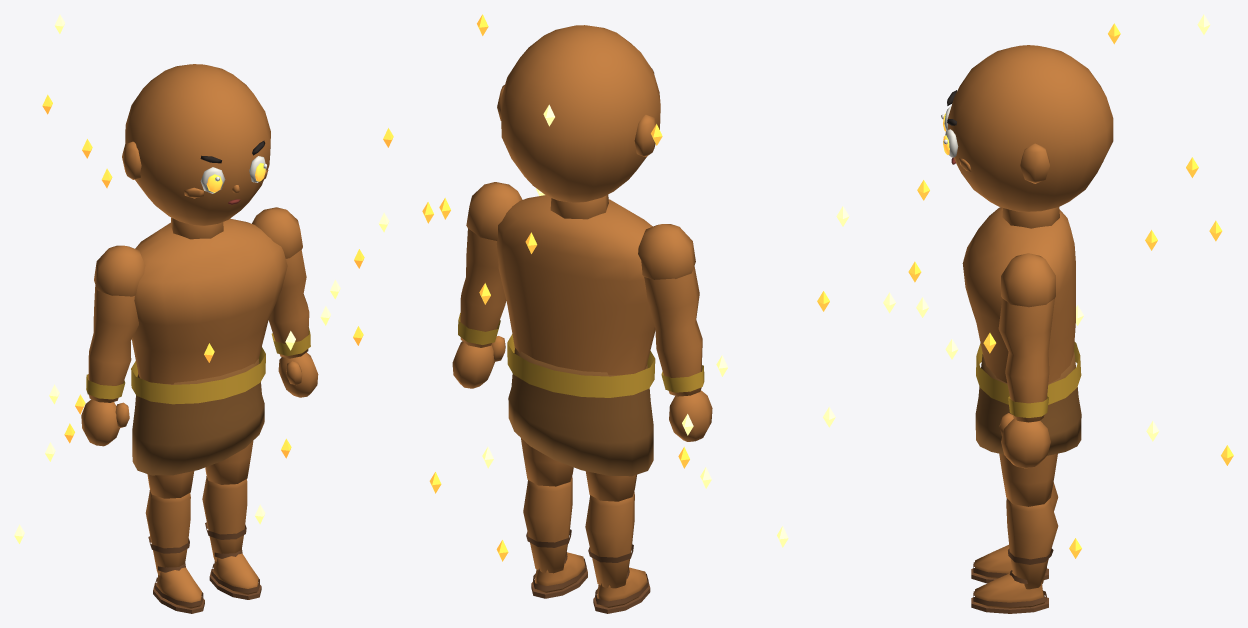
The model's file is talos.glb.
3 renders of one model, left to right at view 1: azimuth 30°, elevation 25°; view 2: azimuth 150°, elevation 25°; view 3: azimuth 270°, elevation 25°, orthographic. The views are drawn at different scales.
Visible parts, largest first — view 1: rumpf, kopf, huefte, armL, armR, knieR, knieL, beinR, beinL, vfx_funken_1, vfx_funken_2, vfx_funken_0; view 2: rumpf, kopf, huefte, armL, armR, knieR, knieL, beinR, beinL, vfx_funken_1, vfx_funken_0; view 3: kopf, rumpf, armR, knieR, huefte, beinR, knieL, vfx_funken_2, vfx_funken_0, vfx_funken_1.
Part boxes in pixels (box(x1,y1,x2,y2)): rumpf: box(131, 218, 287, 404); kopf: box(122, 64, 270, 239); huefte: box(132, 359, 264, 475); armL: box(81, 245, 145, 446); armR: box(252, 207, 318, 397); knieR: box(202, 476, 261, 599); knieL: box(145, 490, 204, 613); beinR: box(205, 441, 253, 484); beinL: box(147, 471, 194, 498); vfx_funken_1: box(14, 14, 393, 543); vfx_funken_2: box(64, 212, 389, 524); vfx_funken_0: box(45, 139, 363, 461); rumpf: box(496, 195, 655, 397); kopf: box(497, 25, 660, 219); huefte: box(508, 348, 653, 476); armL: box(638, 224, 712, 441); armR: box(452, 182, 522, 388); knieR: box(523, 476, 587, 598); knieL: box(585, 492, 650, 613); beinR: box(521, 438, 573, 486); beinL: box(585, 471, 636, 501); vfx_funken_1: box(439, 14, 788, 561); vfx_funken_0: box(422, 202, 711, 493); kopf: box(947, 45, 1113, 228); rumpf: box(962, 207, 1081, 404); armR: box(998, 253, 1055, 468); knieR: box(971, 498, 1058, 613); huefte: box(975, 352, 1081, 455); beinR: box(999, 453, 1057, 506); knieL: box(971, 482, 1058, 583); vfx_funken_2: box(823, 206, 1159, 441); vfx_funken_0: box(817, 157, 1222, 558); vfx_funken_1: box(917, 14, 1233, 465).
Size of the model in its own units: 1.54 by 2.3 by 1.58.
